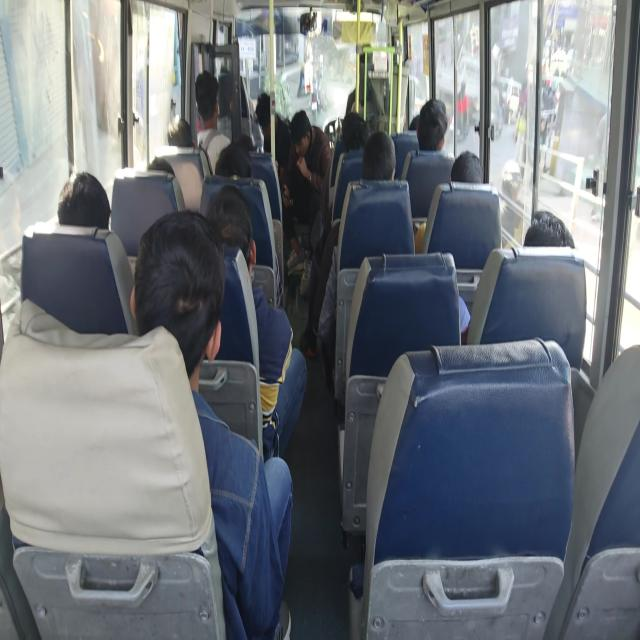person: (130, 209, 293, 638), (206, 184, 307, 461), (299, 131, 397, 363), (458, 208, 576, 343), (254, 92, 306, 271), (282, 110, 332, 272), (194, 70, 231, 174), (57, 170, 111, 228), (254, 91, 290, 175), (523, 209, 575, 248), (361, 130, 396, 181), (416, 98, 448, 151), (215, 140, 252, 178), (340, 110, 370, 152), (450, 150, 484, 184), (167, 115, 193, 146)
